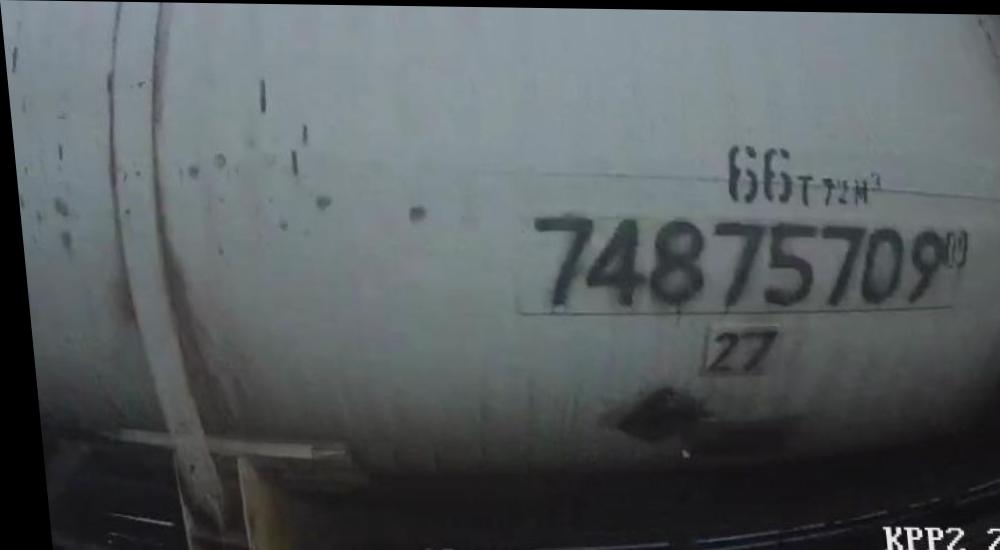Wagon-number: (517, 210, 944, 307)
